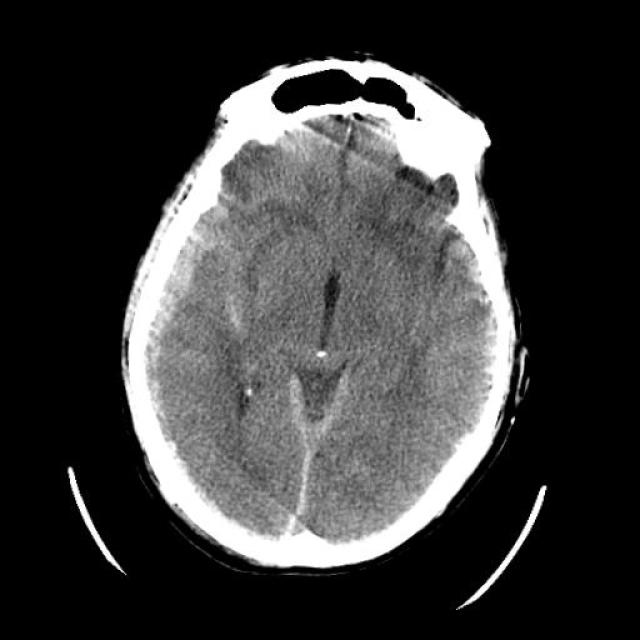Subarachnoid: (266, 382, 336, 554)
Subdural: (123, 186, 226, 523)
